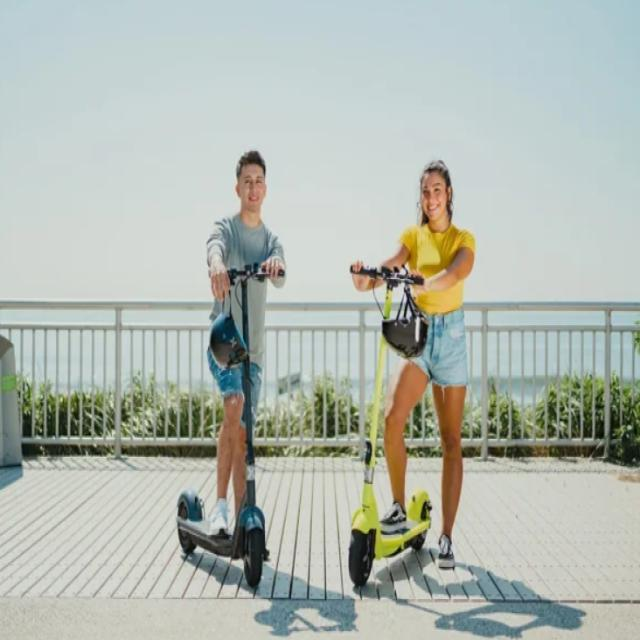non-helmet: (342, 148, 483, 596), (175, 146, 287, 604)
